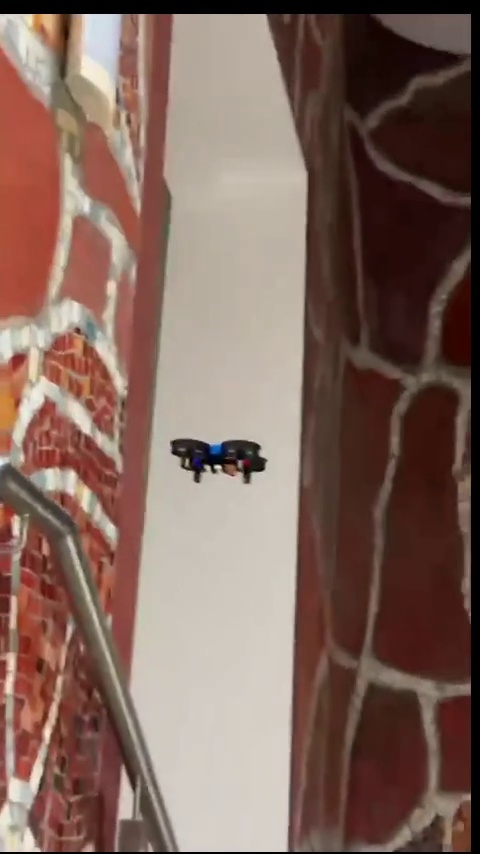drone: (168, 437, 265, 485)
